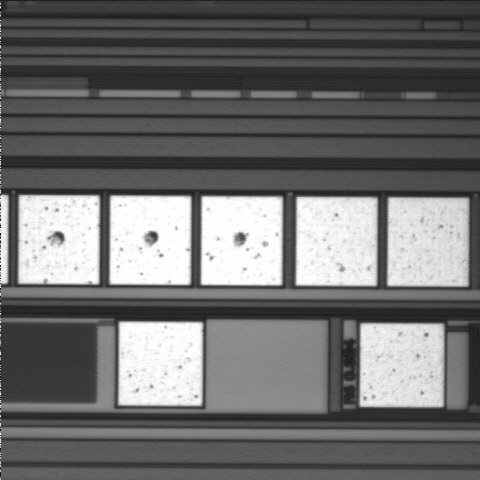pad: (18, 195, 100, 284), (110, 196, 191, 285), (201, 196, 282, 285), (296, 197, 377, 286), (119, 322, 203, 406), (360, 323, 444, 407), (388, 198, 468, 286)
